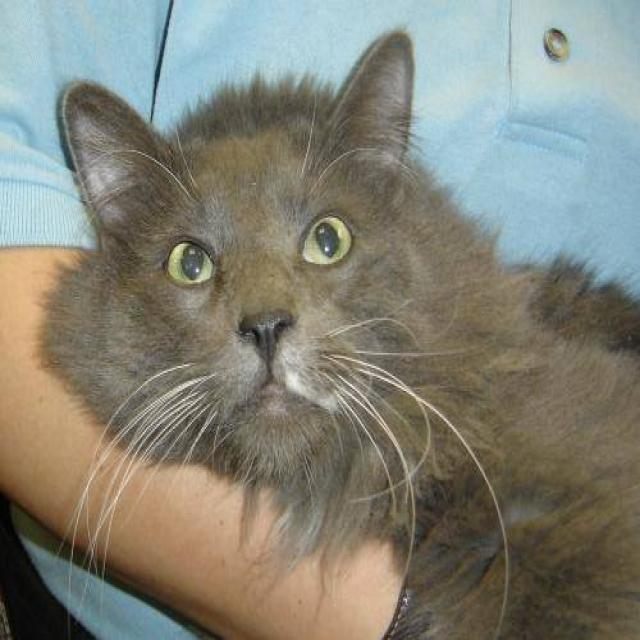cat: (36, 25, 639, 638)
